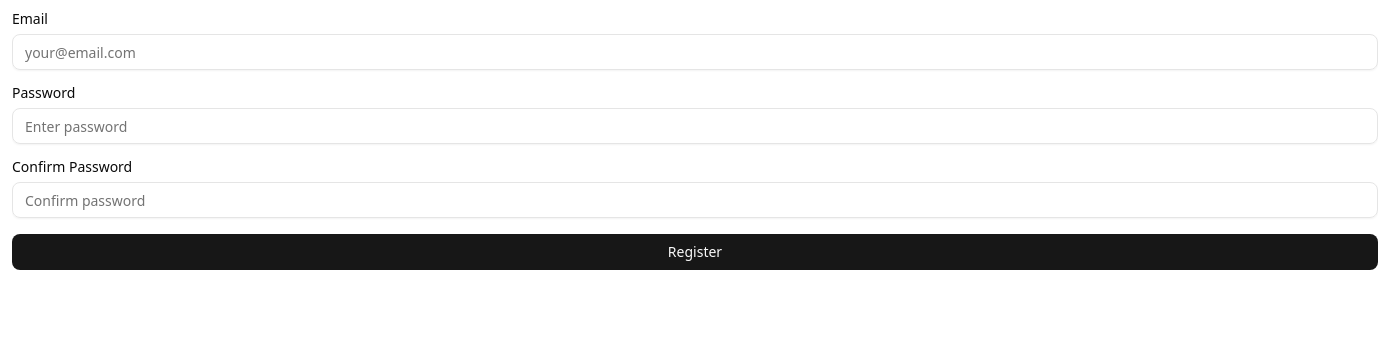
it: RegisterForm › validates password confirmation matches
Type "password123" into the password field labelled "Password".
click(695, 126); type("password123")  # box [12,108,1378,144]
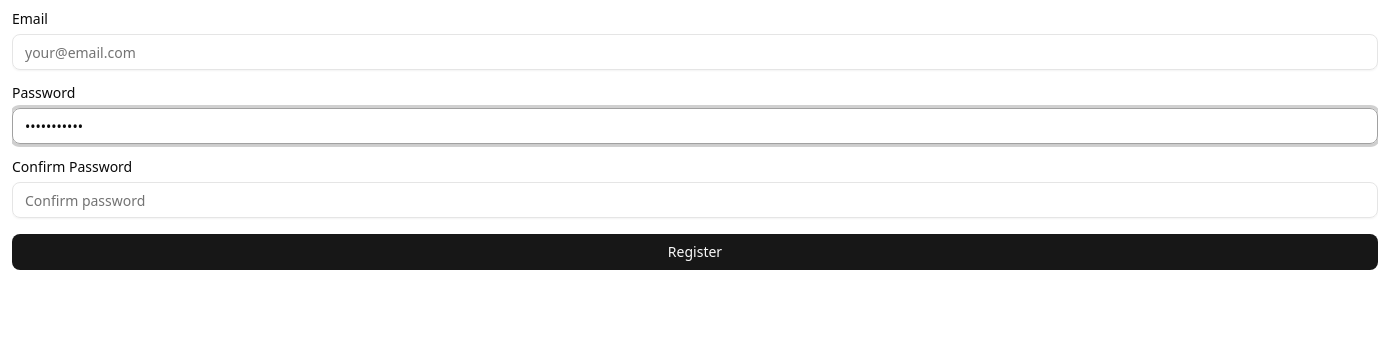
Type "password456" into the password field labelled "Confirm Password".
click(695, 200); type("password456")  # box [12,182,1378,218]
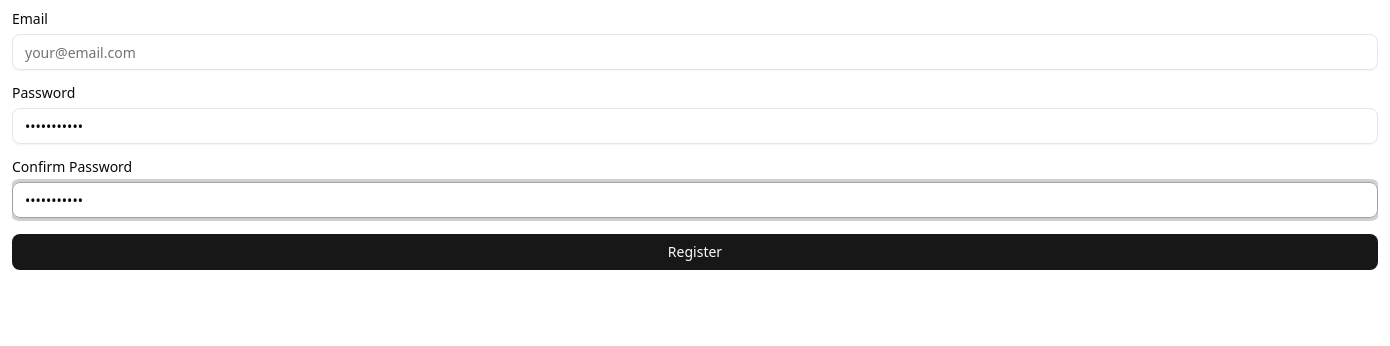
Click the button "Register".
click(695, 252)  # box [12,234,1378,270]
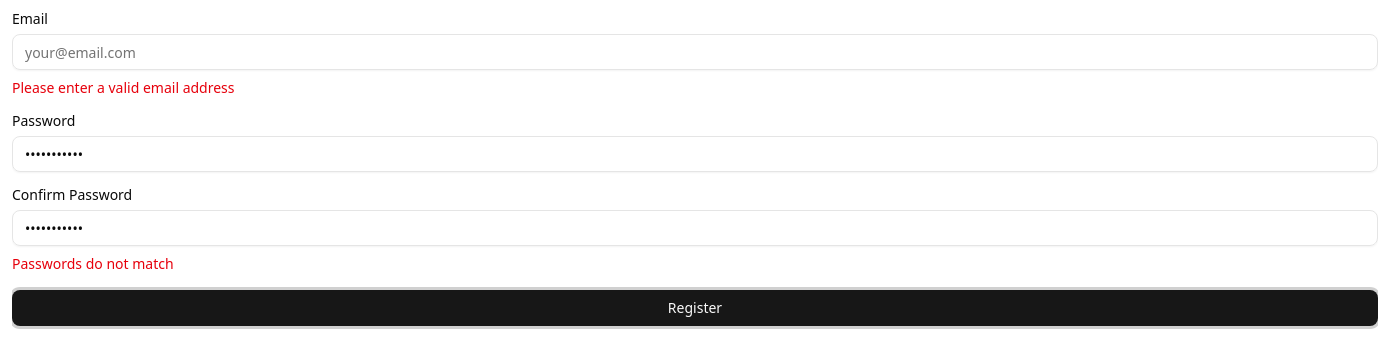
Result: the text "Passwords do not match" is shown at [12,254,174,273]
